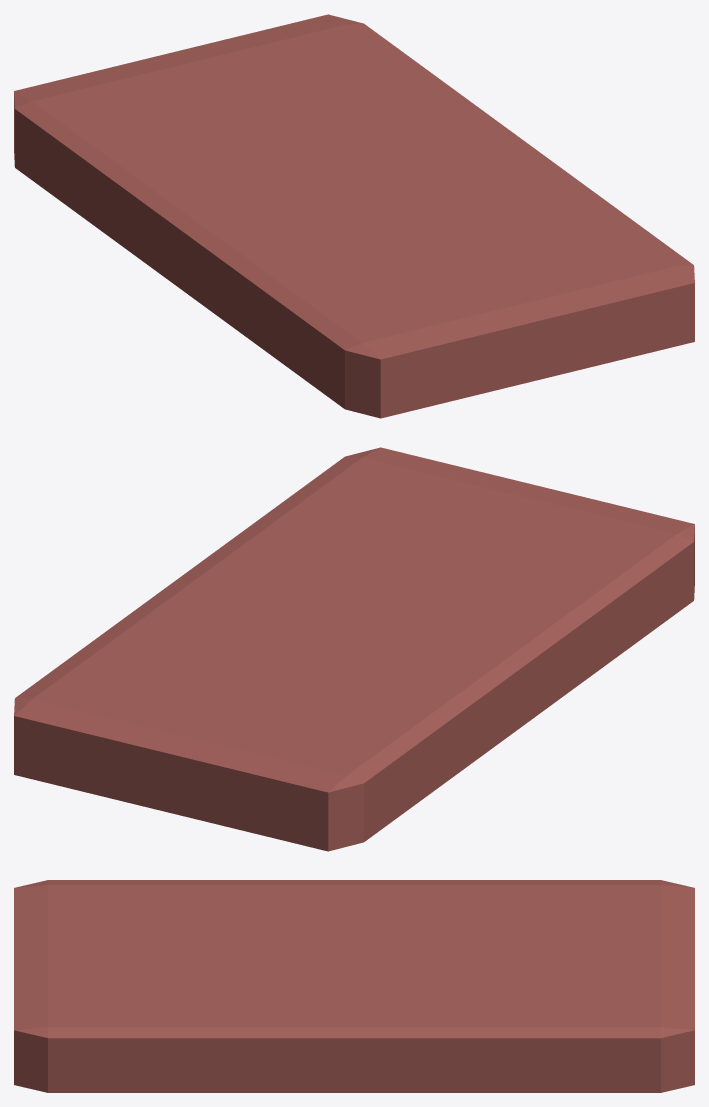
File: shelf.fbx
The picture shows the model from 3 angles, top to bottom: view 1: azimuth 30°, elevation 25°; view 2: azimuth 150°, elevation 25°; view 3: azimuth 270°, elevation 25°; orthographic projection. The views are drawn at different scales.
Parts seen in each view (by area): view 1: Cube; view 2: Cube; view 3: Cube.
Part boxes in pixels (x1,y1,x2,y2): Cube: (14,14,694,418); Cube: (14,447,694,851); Cube: (14,880,694,1092).
Bounding box in the file's own units: 206 × 37 × 375.
